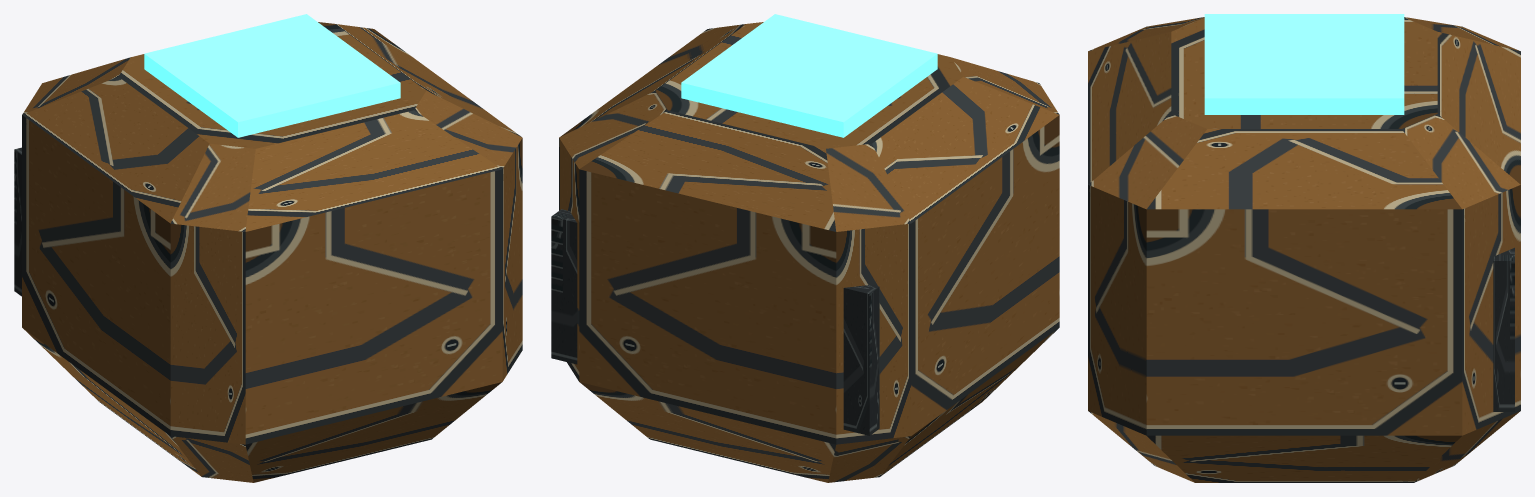
The model's file is beacon.glb.
3 views of the same model, side by side, from view 1: azimuth 30°, elevation 25°; view 2: azimuth 150°, elevation 25°; view 3: azimuth 270°, elevation 25° (orthographic). The views are drawn at different scales.
Parts seen in each view (by area): view 1: STProp_beacon_Body; view 2: STProp_beacon_Body; view 3: STProp_beacon_Body.
Part boxes in pixels (bbox=[...]): STProp_beacon_Body: bbox=[14, 14, 522, 482]; STProp_beacon_Body: bbox=[551, 14, 1059, 482]; STProp_beacon_Body: bbox=[1088, 14, 1520, 482].
Bounding box in the file's own units: 0.26 × 0.241 × 0.26.
Materials: 3 (2 with a texture image).
